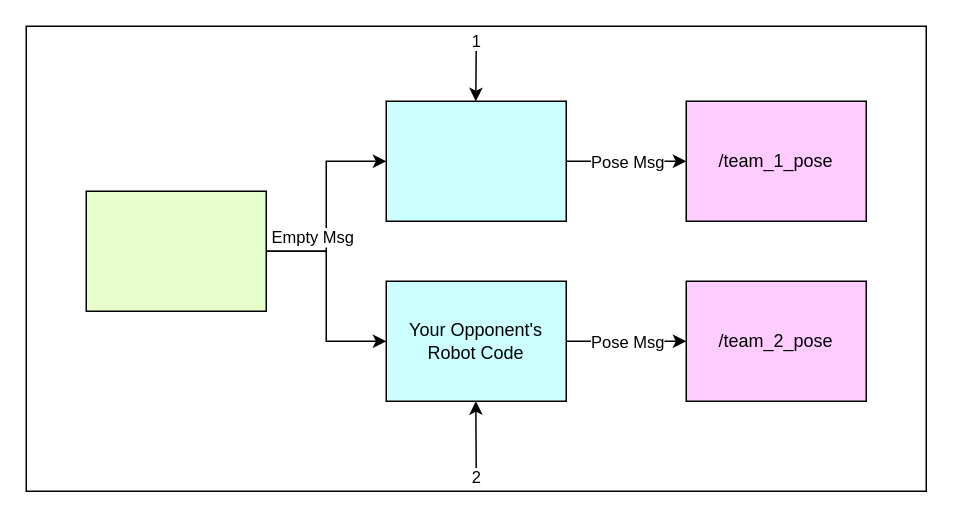
Some shapes in this 953 by 518 pixel diagram are drawn without their labels. The shapes that lost their labels are listed below. From the top down, each one's box as (x1, y1, x2, y2) in pixels, then its label:
(385, 100, 566, 221): Your Robot Code
(85, 190, 266, 311): /CompetitionStart
